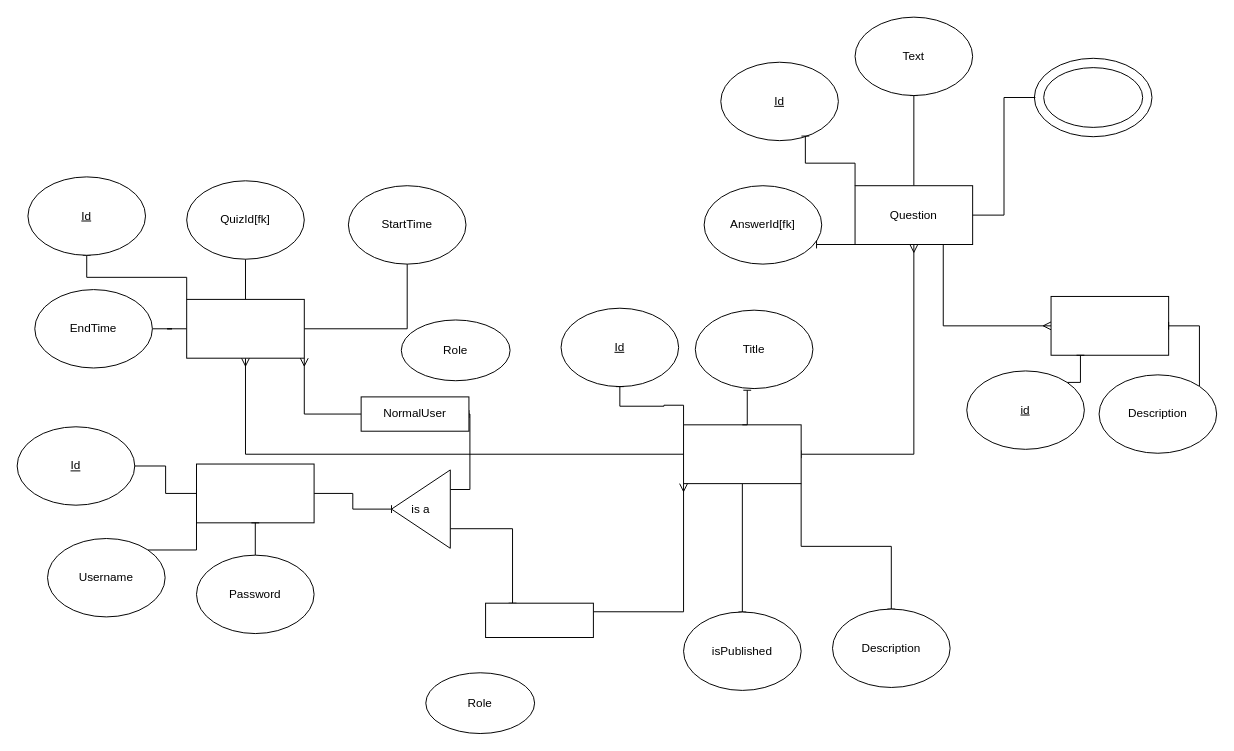
Some shapes in this 1234 by 751 pixel diagram are drawn without their labels. The centre of each missing label's shape, as x and y in pixels:
"Admin" goes at point (539, 619).
"Answers" goes at point (1109, 325).
"Options" goes at point (1093, 97).
"Quiz" goes at point (742, 454).
"QuizAttempt" goes at point (245, 328).
"User" goes at point (255, 493).
